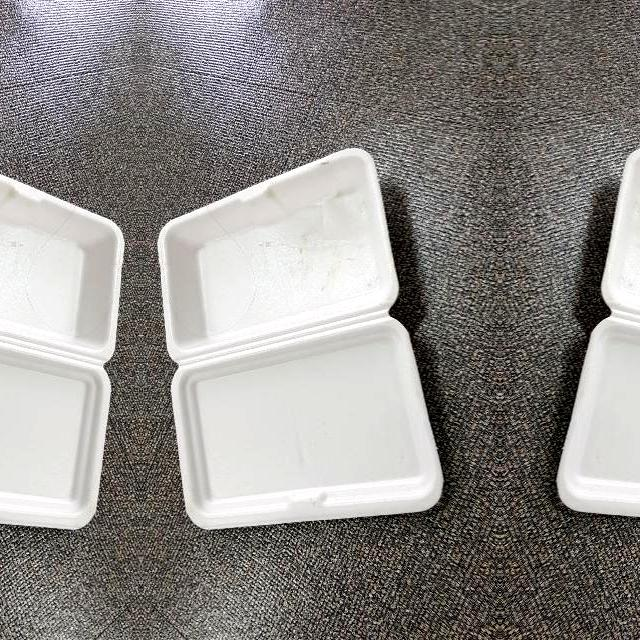Styrofoam: (156, 145, 444, 532), (156, 148, 442, 530), (0, 145, 124, 532), (0, 175, 124, 530), (553, 145, 640, 532), (556, 149, 640, 518)
